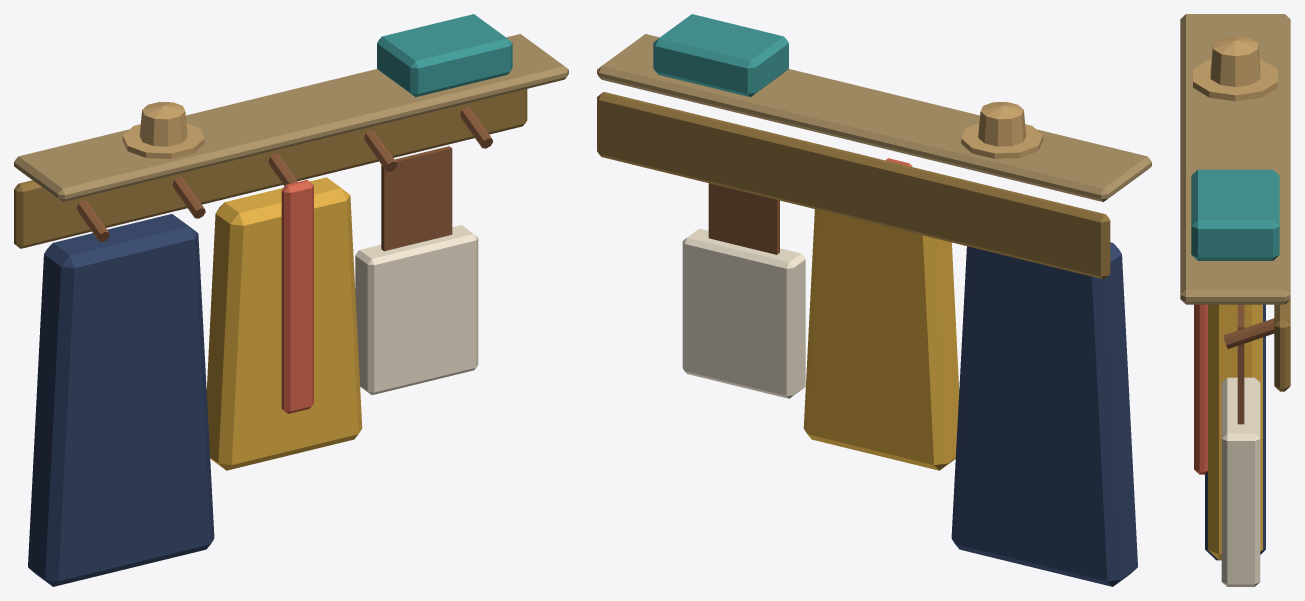
File: wall_hanger.glb
3 renders of one model, left to right at view 1: azimuth 30°, elevation 25°; view 2: azimuth 150°, elevation 25°; view 3: azimuth 270°, elevation 25°, orthographic. The views are drawn at different scales.
Parts seen in each view (by area): view 1: wall_hanger_Body; view 2: wall_hanger_Body; view 3: wall_hanger_Body.
Part boxes in pixels (x1,y1,x2,y2): wall_hanger_Body: (14, 14, 568, 586); wall_hanger_Body: (597, 14, 1151, 586); wall_hanger_Body: (1180, 14, 1290, 586).
Size of the model in its own units: 1.2 by 1 by 0.2.
